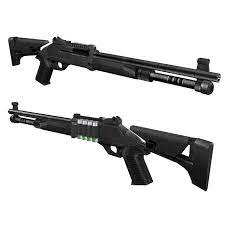weapon: (8, 101, 213, 192), (9, 36, 221, 96)
